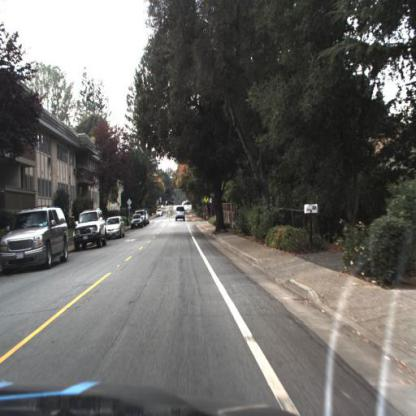car: (1, 205, 69, 274), (72, 207, 109, 253), (107, 215, 126, 239), (175, 201, 188, 224), (133, 214, 145, 228)
